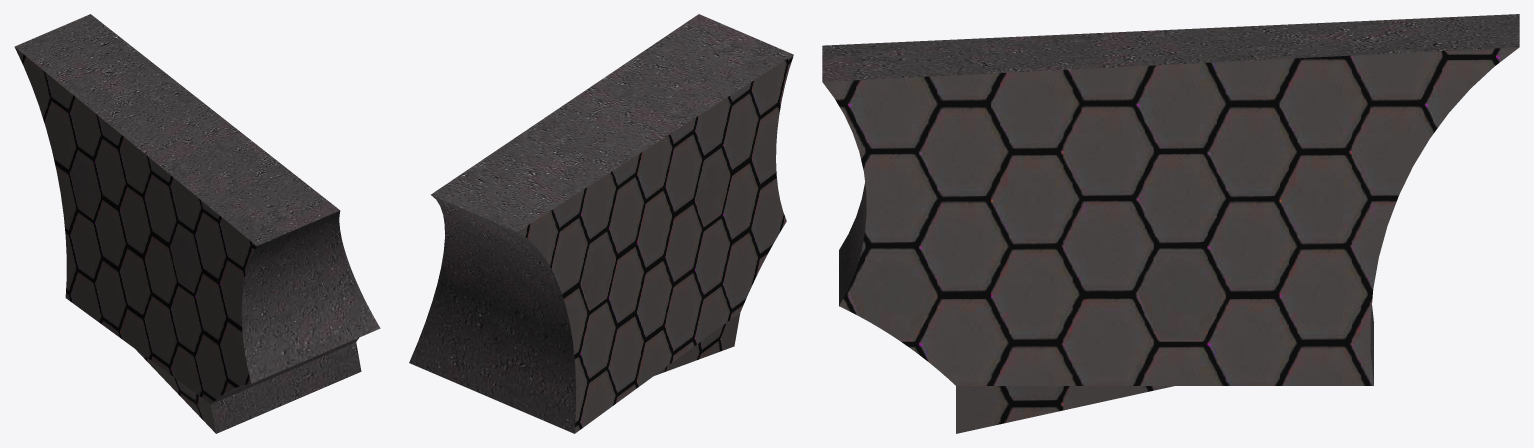
File: wing_l1.obj
The picture shows the model from 3 angles, left to right: view 1: azimuth 30°, elevation 25°; view 2: azimuth 150°, elevation 25°; view 3: azimuth 270°, elevation 25°; orthographic projection. The views are drawn at different scales.
Parts seen in each view (by area): view 1: togezo_koura-SKP--_Asphalt_New_l1, togezo_koura-SKP--_Tile_Hexagon_White_l1; view 2: togezo_koura-SKP--_Asphalt_New_l1, togezo_koura-SKP--_Tile_Hexagon_White_l1; view 3: togezo_koura-SKP--_Tile_Hexagon_White_l1, togezo_koura-SKP--_Asphalt_New_l1.
Boxes of the visible parts, x1,y1,x2,y2 form: togezo_koura-SKP--_Asphalt_New_l1: (15, 14, 380, 433); togezo_koura-SKP--_Tile_Hexagon_White_l1: (14, 47, 256, 433); togezo_koura-SKP--_Asphalt_New_l1: (409, 14, 793, 433); togezo_koura-SKP--_Tile_Hexagon_White_l1: (518, 55, 793, 433); togezo_koura-SKP--_Tile_Hexagon_White_l1: (822, 47, 1518, 433); togezo_koura-SKP--_Asphalt_New_l1: (822, 14, 1519, 383).
Bounding box in the file's own units: 0.2608 × 0.4278 × 0.7253.
Materials: 3 (2 with a texture image).
